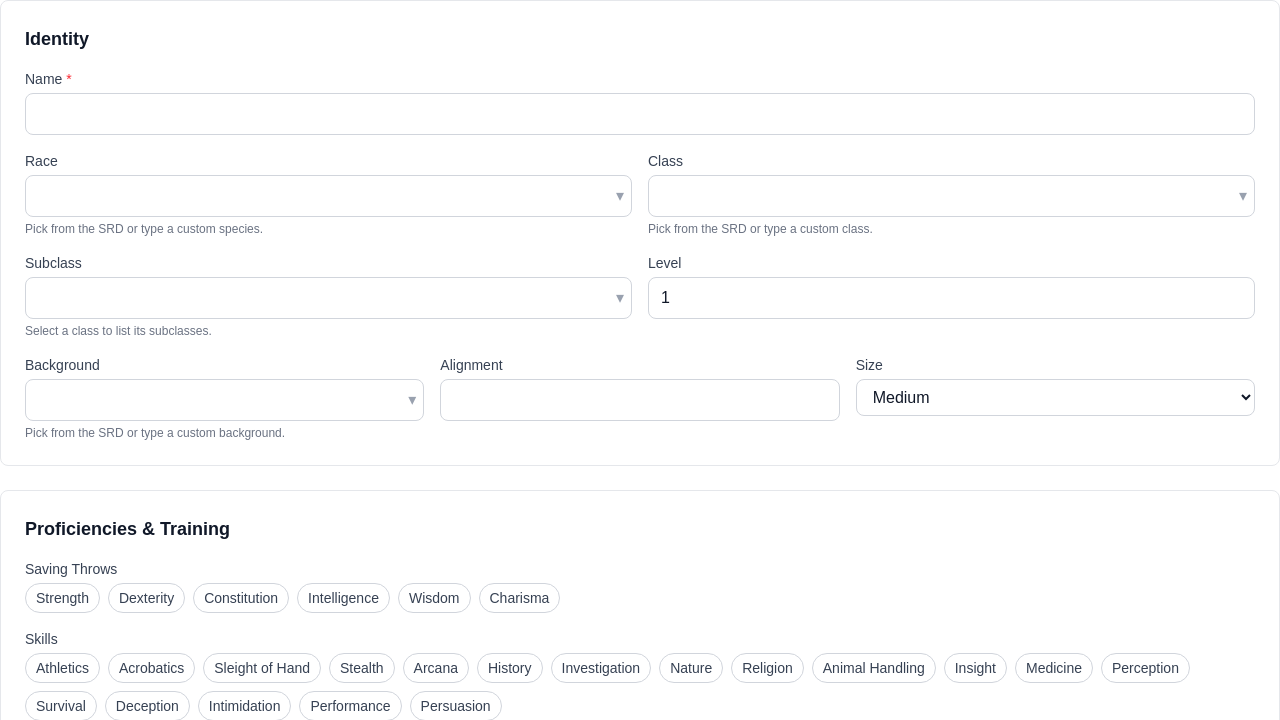
Test: CharacterEditorForm rendering › lists SRD options in the class combobox
Click the dropdown labelled "Class" at (952, 196), box [648,175,1255,217]
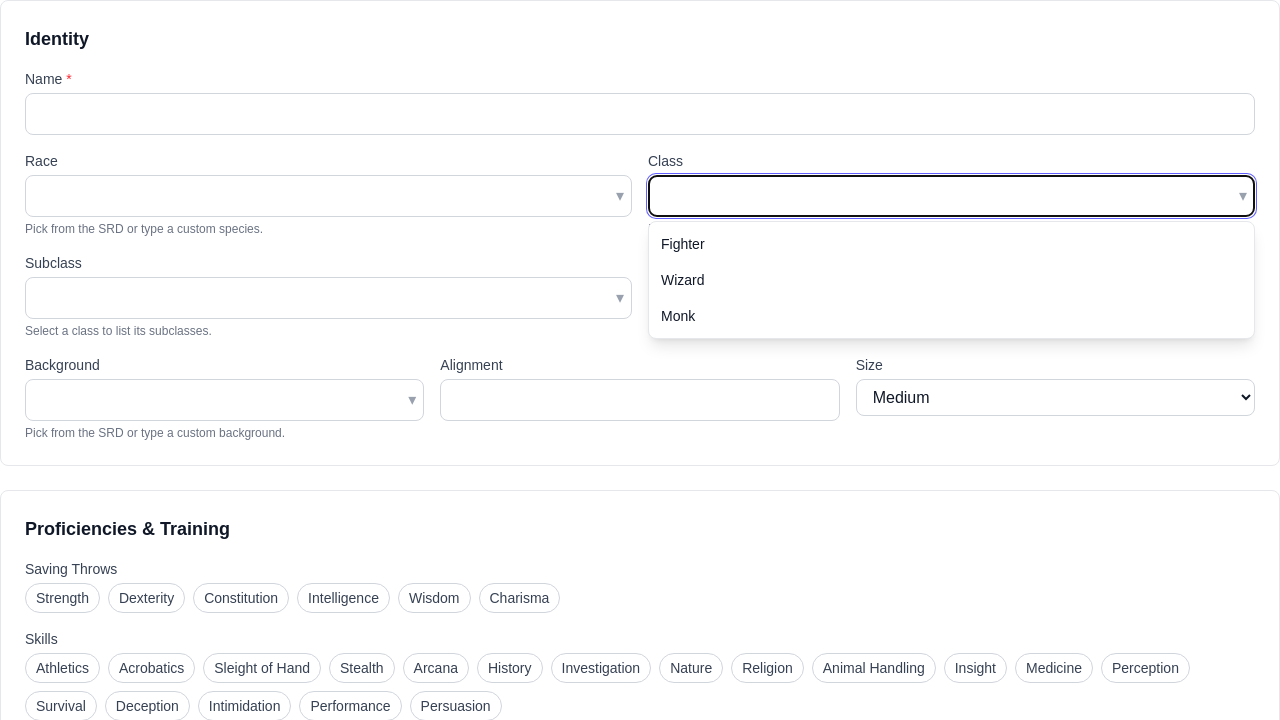
expect the option "Fighter" is shown: met, box [661,236,705,252]
expect the option "Wizard" is shown: met, box [661,272,705,288]
